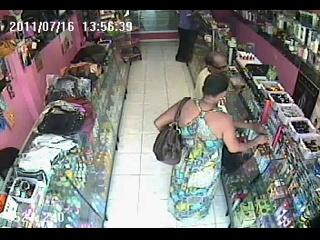Normal: (153, 74, 268, 226), (152, 97, 190, 166), (192, 51, 234, 99), (175, 10, 202, 66), (120, 46, 142, 64)
